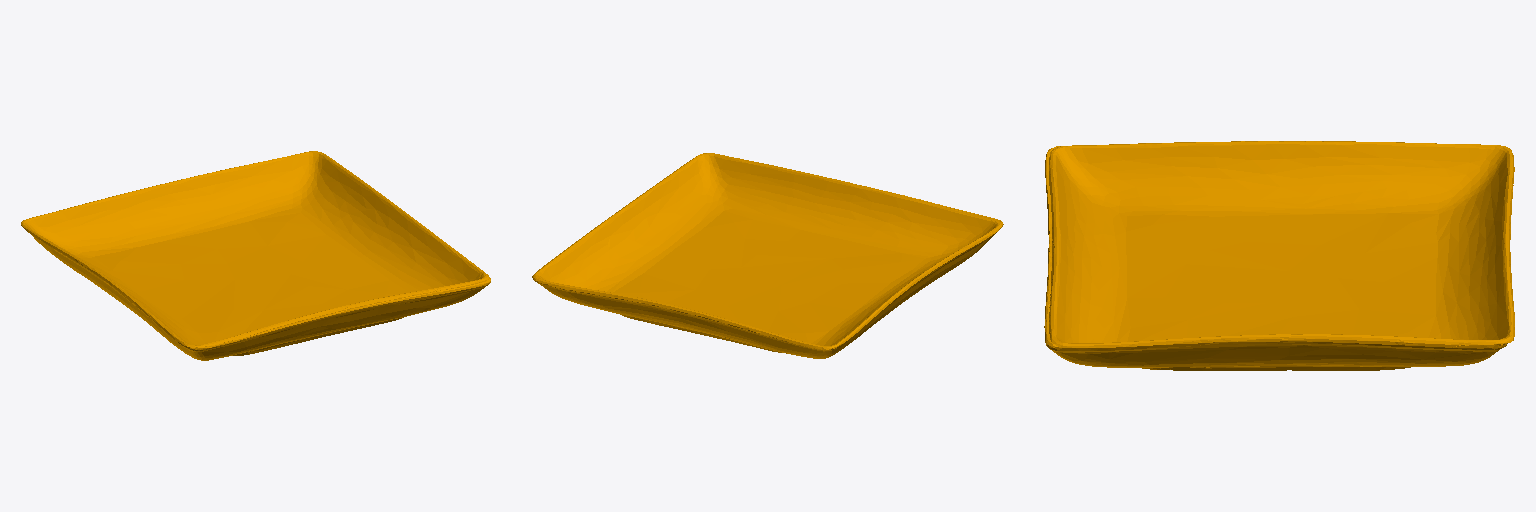
URDF robot description (Square Plate):
<?xml version="1.0" ?>
<!--
Copyright 2020 Google LLC.

This work is licensed under the Creative Commons Attribution 4.0
International License. To view a copy of this license, visit
http://creativecommons.org/licenses/by/4.0/ or send a letter
to Creative Commons, PO Box 1866, Mountain View, CA 94042, USA.
-->
<robot name="Square Plate">
  <link name="link_0">
    <visual name="visual">
      <geometry>
        <mesh filename="meshes/square_plate.obj"/>
      </geometry>
    </visual>
    <collision name="collision_0">
      <geometry>          
        <mesh filename="meshes/square_plate.obj"/>
      </geometry>
    </collision>
  </link>
</robot>

--- Facts derived from the render (not from the file) ---
3 views of the same robot in one strip: view 1: azimuth 30°, elevation 25°; view 2: azimuth 150°, elevation 25°; view 3: azimuth 270°, elevation 25° (orthographic).
Robot: Square Plate — 1 links, 0 joints (none); root link link_0; default pose: all joints at 0.
Links seen in each view (by area): view 1: link_0; view 2: link_0; view 3: link_0.
Boxes of the visible links, left/top/right/bottom form: link_0: left=21, top=151, right=490, bottom=360; link_0: left=532, top=153, right=1003, bottom=358; link_0: left=1044, top=141, right=1514, bottom=370.
Bounding box of the posed robot: 0.271 × 0.2735 × 0.0389 m (x, y, z).
1 mesh visuals loaded from 1 distinct referenced files (1 OBJ).